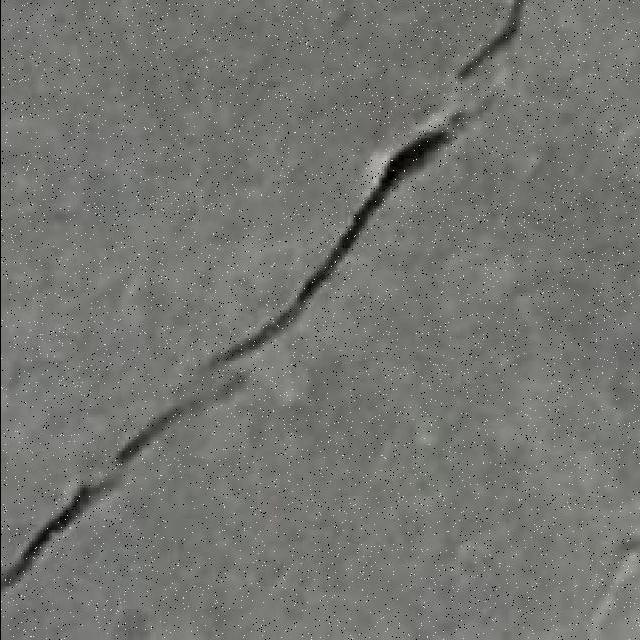crack: (2, 1, 525, 591), (5, 370, 249, 604), (121, 378, 233, 455), (6, 492, 88, 590), (462, 3, 531, 78)
